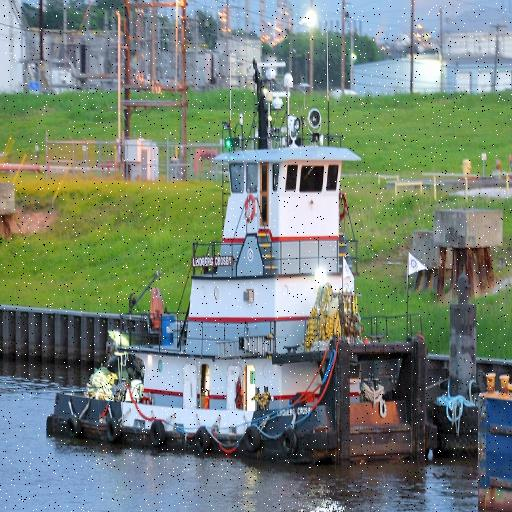tugboat: (44, 55, 433, 478)
